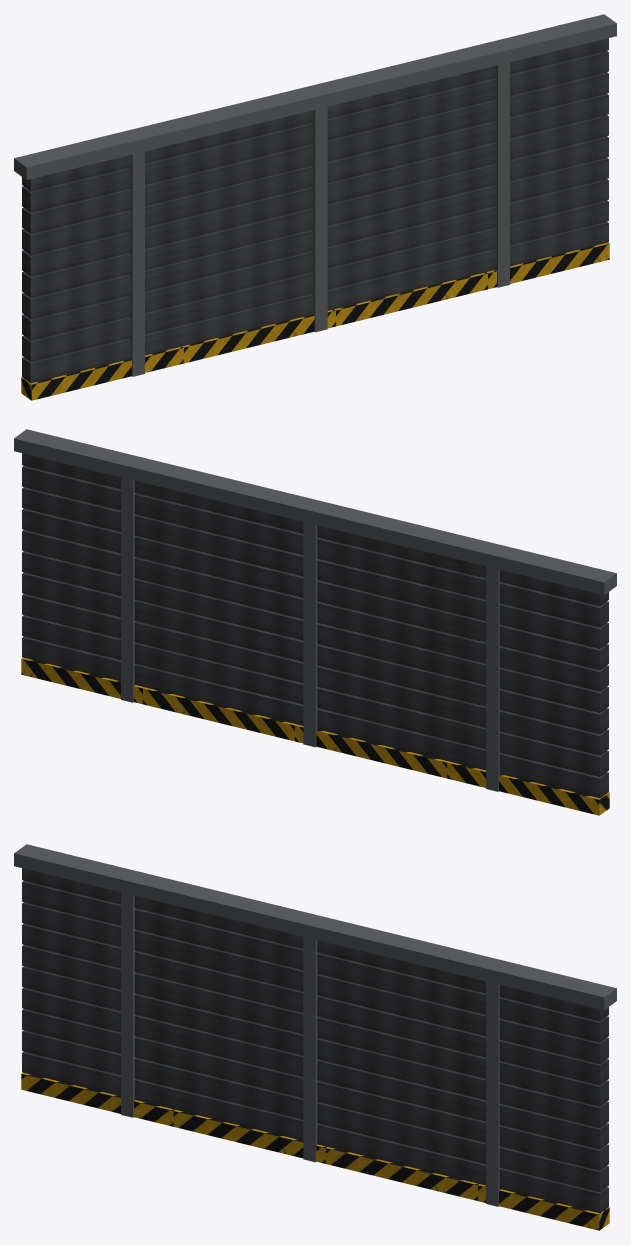
File: gate_steel.fbx
3 renders of one model, top to bottom at view 1: azimuth 30°, elevation 25°; view 2: azimuth 150°, elevation 25°; view 3: azimuth 330°, elevation 25°, orthographic.
Visible parts, largest first — view 1: gate_steel; view 2: gate_steel; view 3: gate_steel.
Part boxes in pixels (x1,y1,x2,y2): gate_steel: (14,14,616,400); gate_steel: (14,429,616,815); gate_steel: (14,844,616,1230).
Bounding box in the file's own units: 19400 × 7400 × 720.
